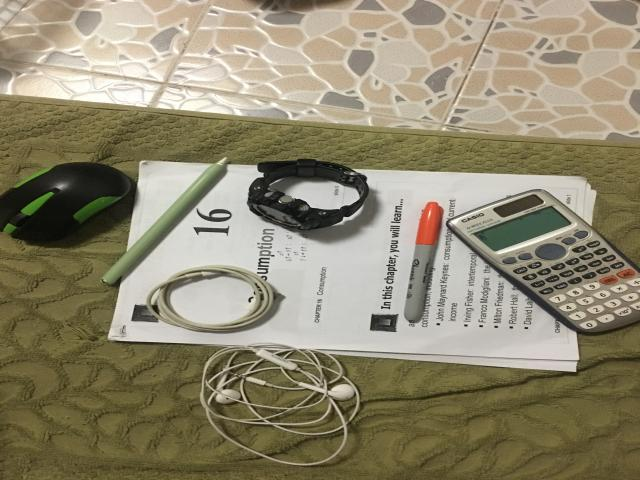Mouse: (0, 162, 132, 242)
Pen: (403, 202, 443, 322)
Watch: (247, 159, 368, 231)
paper: (108, 161, 593, 371)
wire: (200, 344, 360, 466), (147, 264, 275, 332)
